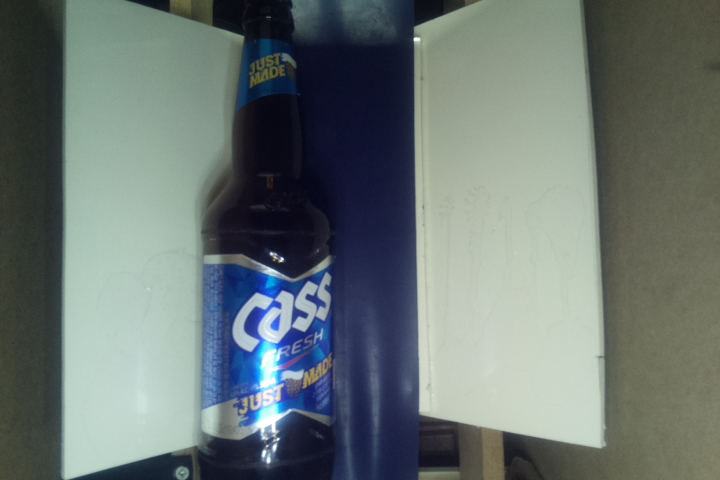makju: (197, 2, 342, 480)
